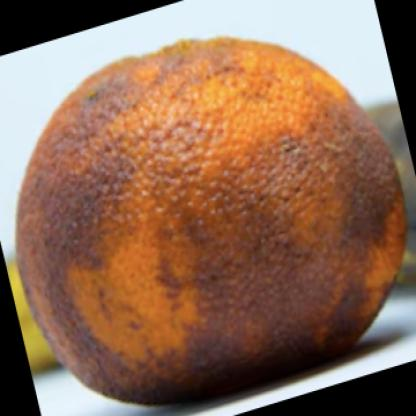rotten: (16, 41, 409, 403)
